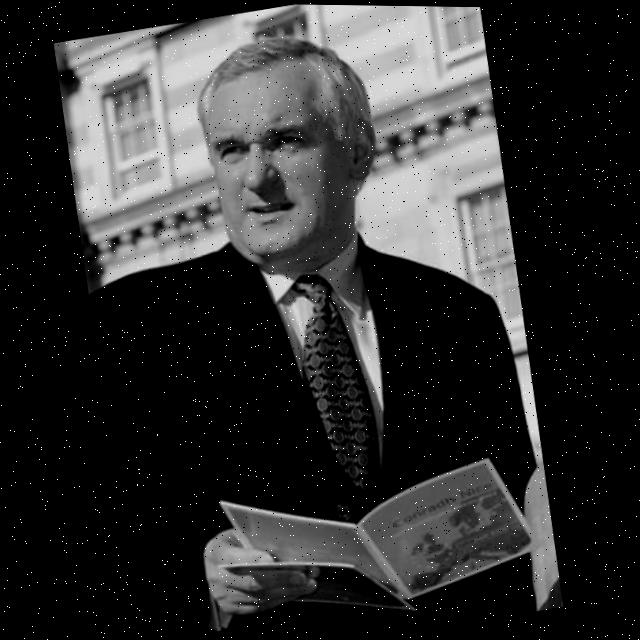face: (180, 21, 403, 294)
